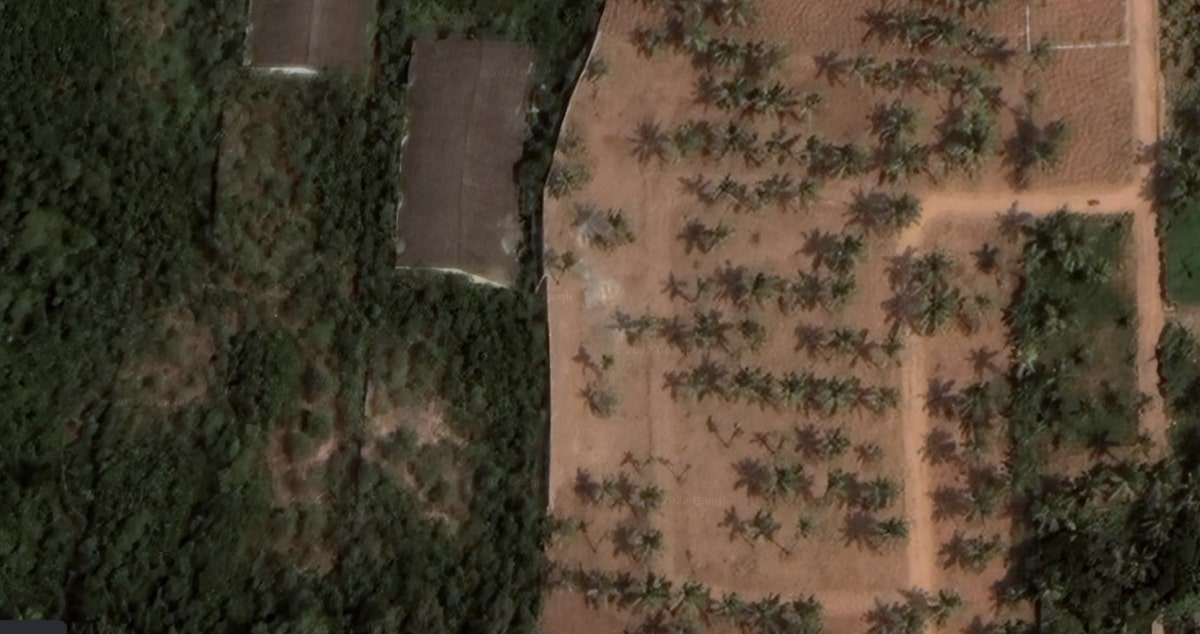coconut: (946, 529, 1008, 569), (869, 101, 918, 150), (970, 455, 1011, 512), (757, 459, 810, 502), (1027, 124, 1071, 170), (729, 270, 777, 307), (577, 380, 622, 418), (816, 375, 862, 412), (618, 308, 659, 349), (622, 574, 659, 619), (584, 211, 630, 247), (888, 144, 928, 185), (543, 163, 585, 202), (772, 370, 810, 413), (678, 364, 720, 402), (686, 315, 727, 352), (892, 12, 934, 48), (910, 253, 958, 284), (728, 368, 768, 405), (792, 268, 826, 311), (569, 462, 602, 506), (673, 586, 706, 630), (863, 478, 908, 510), (888, 188, 923, 229), (583, 58, 623, 93), (716, 177, 754, 213), (920, 292, 955, 330), (877, 383, 909, 423), (825, 273, 861, 308), (676, 126, 710, 162), (824, 233, 866, 262), (647, 136, 681, 171), (1009, 342, 1040, 380), (712, 120, 752, 149), (682, 270, 716, 304), (1107, 468, 1140, 503), (702, 219, 735, 253), (850, 51, 878, 91), (877, 517, 913, 548), (879, 334, 910, 369), (627, 483, 663, 513), (825, 331, 856, 363), (961, 394, 992, 426), (774, 131, 801, 167), (792, 180, 823, 211), (810, 131, 830, 179), (755, 602, 784, 634), (596, 475, 624, 508), (719, 585, 746, 618), (735, 321, 764, 351), (834, 145, 862, 176), (759, 179, 785, 212), (832, 466, 854, 503), (748, 514, 778, 540), (801, 517, 819, 538)
